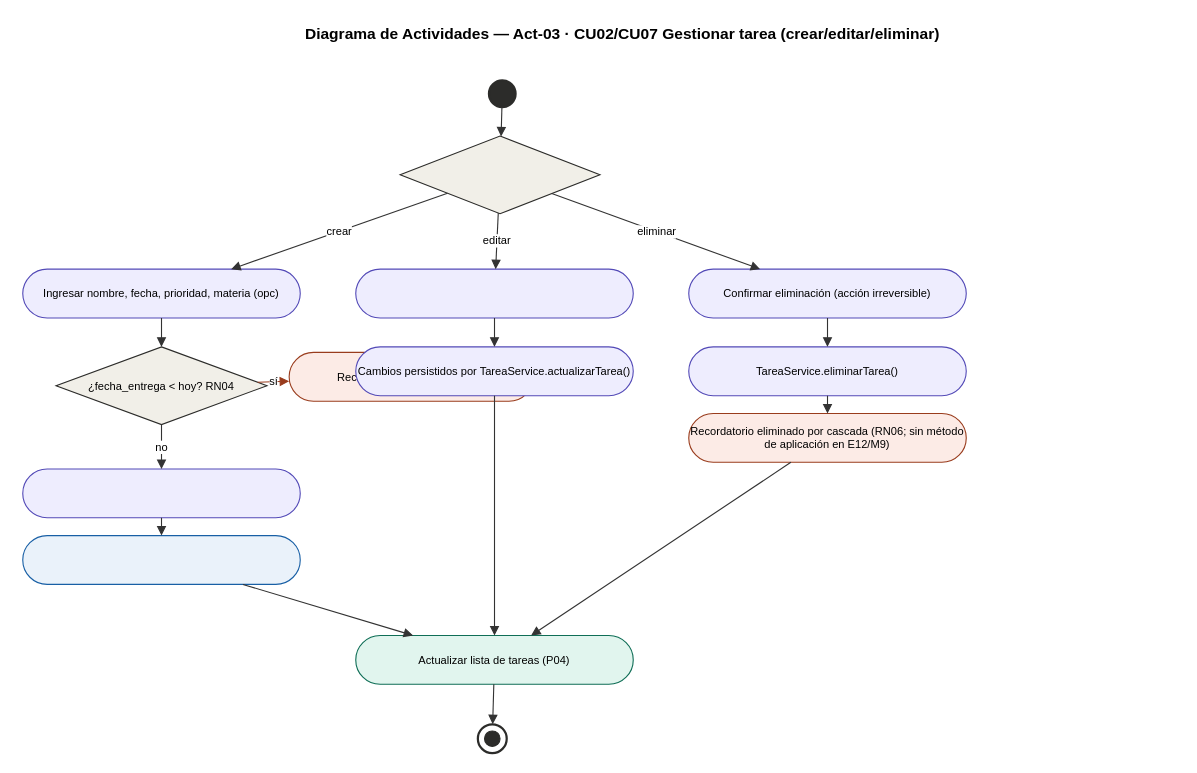
Image size: 1197x773. Some labels were removed from this diagram. Each missing label, with the box of its shape:
PlanificadorRecordatoriosService.sincronizarAutomatico() -24h automático RN05: (22, 534, 300, 584)
TareaService.actualizarTarea() Modificar nombre, fecha, prioridad o materia: (355, 268, 633, 318)
TareaService.crearTarea() (estado=Pendiente): (22, 468, 300, 518)
¿Crear, editar o eliminar?: (399, 135, 600, 214)
